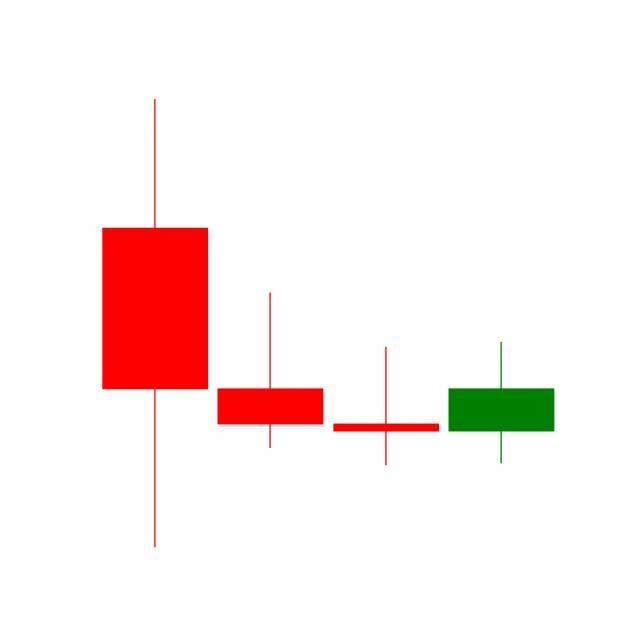Spinning Top: (329, 346, 445, 468)
